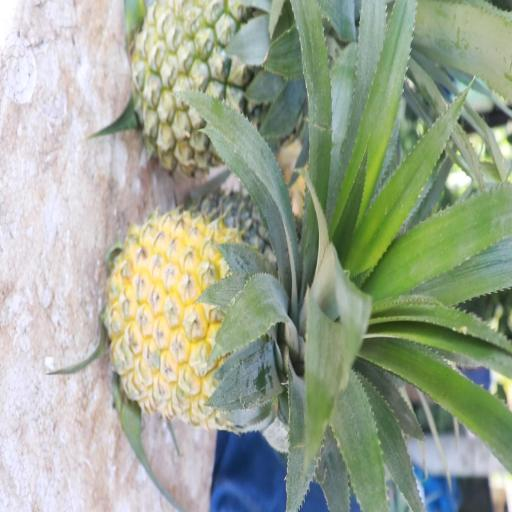------------------------------: (136, 0, 341, 173)
Pineapple - v8 v1: (112, 212, 352, 426)
